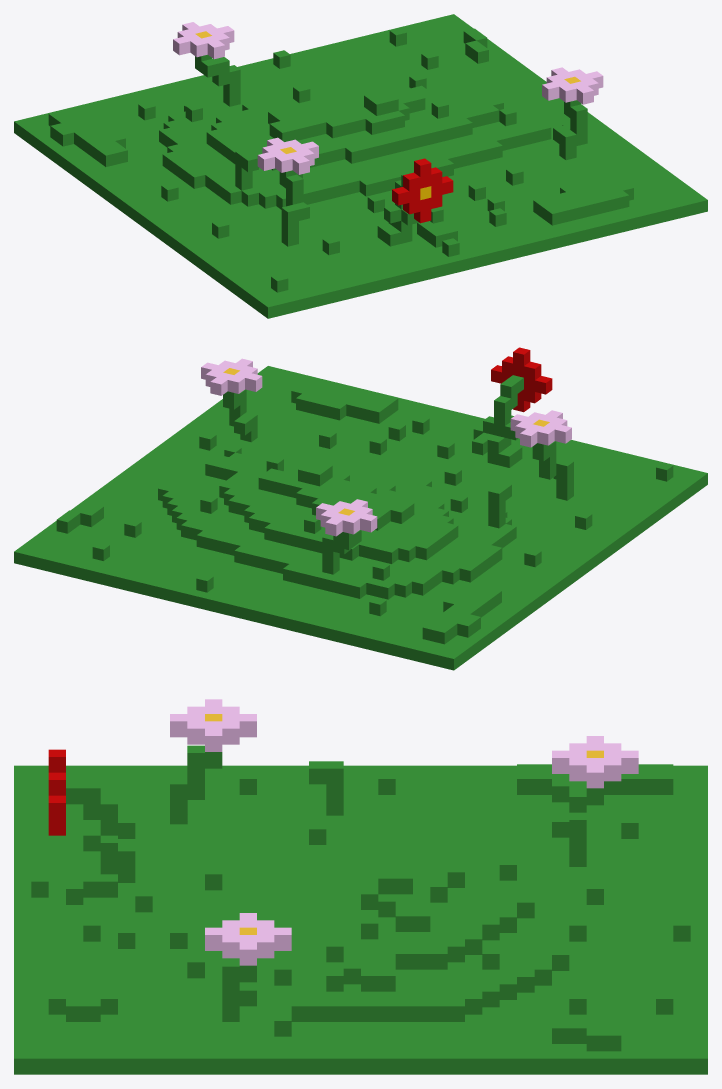
File: flores_02.fbx
3 views of the same model, one above another, from view 1: azimuth 30°, elevation 25°; view 2: azimuth 150°, elevation 25°; view 3: azimuth 270°, elevation 25° (orthographic). The views are drawn at different scales.
Visible parts, largest first — view 1: flores_02; view 2: flores_02; view 3: flores_02.
Part boxes in pixels (x1=…): flores_02: x1=14, y1=14, x2=707, y2=318; flores_02: x1=14, y1=347, x2=707, y2=670; flores_02: x1=14, y1=699, x2=707, y2=1074.
Bounding box in the file's own units: 400 × 90 × 400.
Materials: 1 (1 with a texture image).
